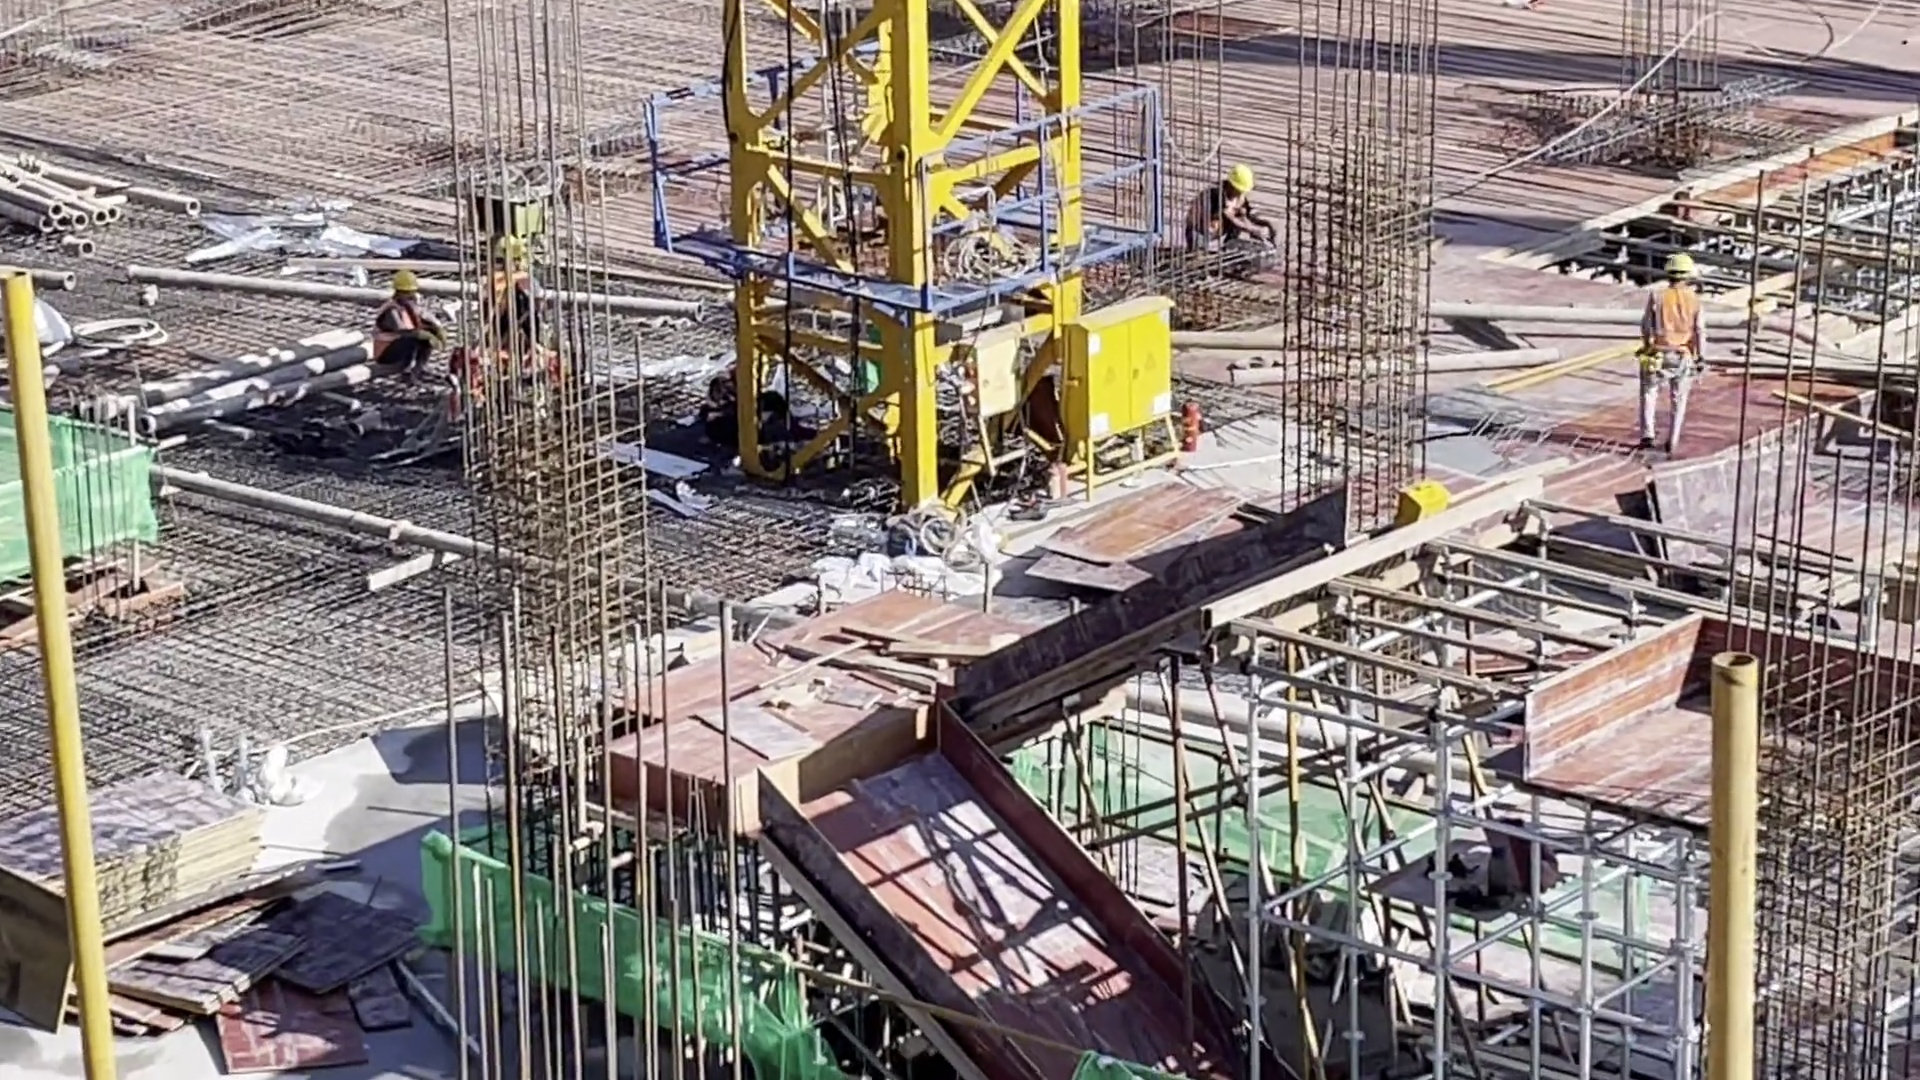board: (79, 841, 438, 1080), (1, 751, 272, 961)
ebox: (1054, 290, 1178, 484), (953, 332, 1029, 495), (1394, 480, 1456, 530)
helmet: (1661, 251, 1695, 288), (1223, 166, 1257, 200), (384, 265, 424, 293)
person: (1630, 248, 1703, 447), (366, 263, 451, 379), (1179, 163, 1275, 260)
vest: (1650, 289, 1698, 365), (1190, 186, 1246, 243), (370, 298, 412, 364)
